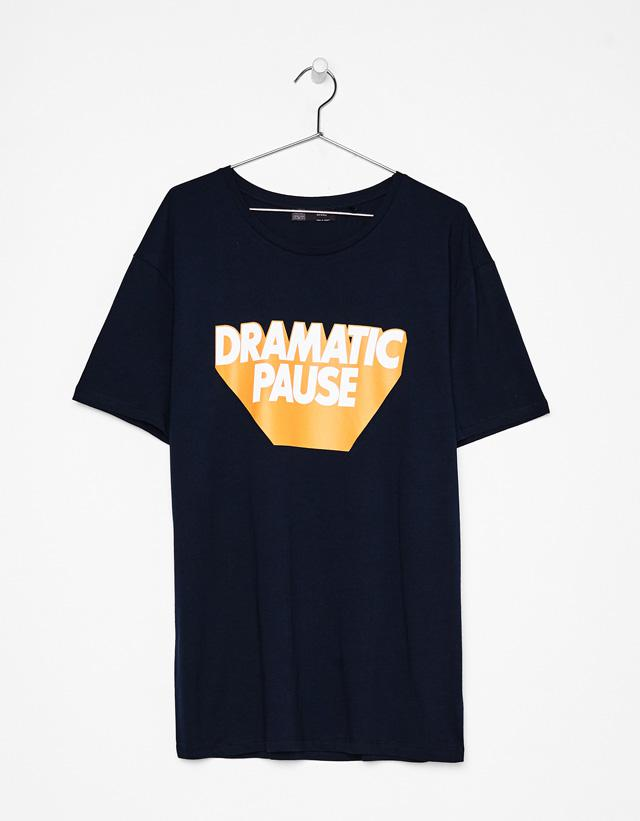teeshirt: (50, 165, 568, 789)
